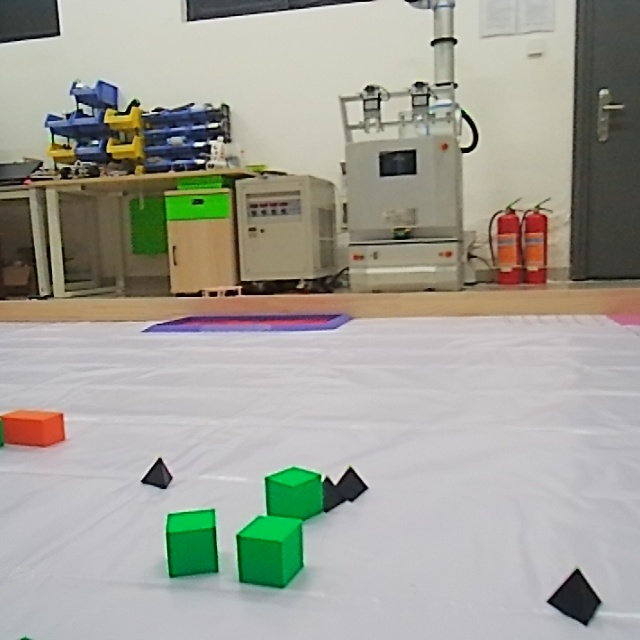black: (545, 564, 607, 626), (135, 452, 179, 490), (339, 460, 368, 504), (320, 474, 344, 515)
green: (233, 512, 309, 591), (161, 505, 223, 581), (260, 462, 324, 521)
orange: (0, 406, 70, 448)
zone1: (135, 307, 351, 338)
